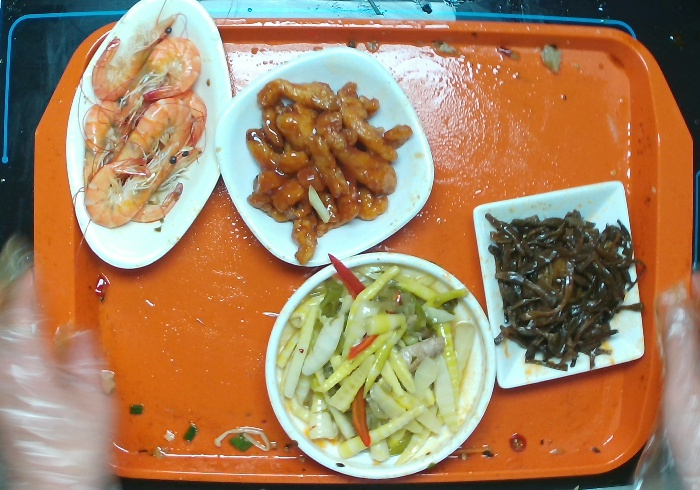HZYJPL-Si_Fang_Die: (472, 171, 657, 399)
HZYJPL-Si_Fang_Yuan_Die: (207, 44, 440, 273)
HZYJPL-Xiao_Yu_Die: (62, 1, 235, 284)
HZYJPL-Xiao_Yuan_Die: (263, 247, 502, 485)
